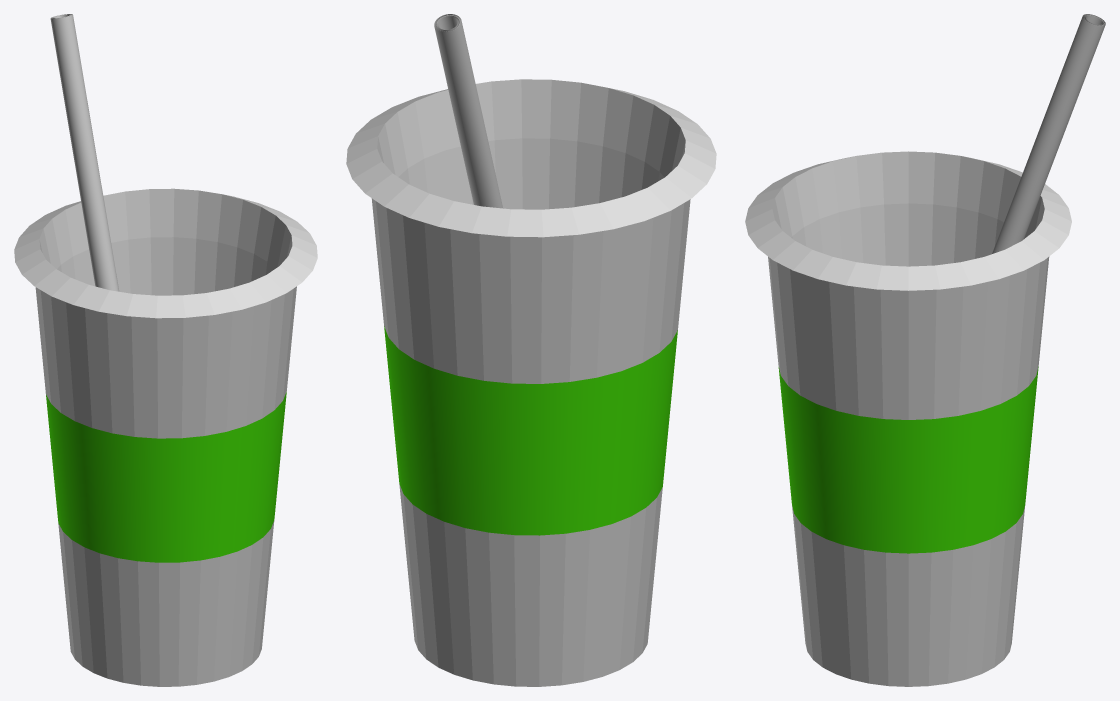
File: BigGobeletVert.fbx
3 renders of one model, left to right at view 1: azimuth 30°, elevation 25°; view 2: azimuth 150°, elevation 25°; view 3: azimuth 270°, elevation 25°, orthographic. The views are drawn at different scales.
Parts seen in each view (by area): view 1: Circle, Circle.001, Cylinder; view 2: Circle, Circle.001, Cylinder; view 3: Circle, Circle.001, Cylinder.
Part boxes in pixels (box(x1,y1,x2,y2)): Circle: box(14, 188, 317, 686); Circle.001: box(46, 392, 286, 562); Cylinder: box(50, 14, 119, 291); Circle: box(346, 79, 716, 686); Circle.001: box(384, 326, 677, 535); Cylinder: box(434, 14, 503, 208); Circle: box(745, 151, 1071, 686); Circle.001: box(778, 366, 1038, 553); Cylinder: box(992, 14, 1105, 253).
Size of the model in its own units: 317 by 660 by 349.
